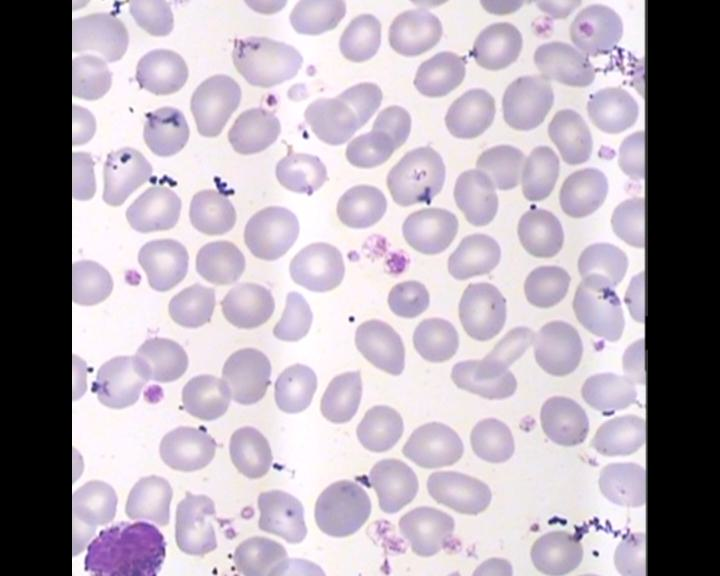baso: (81, 519, 170, 576)
